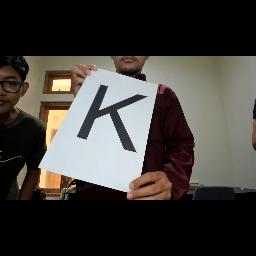k: (73, 80, 149, 158)
